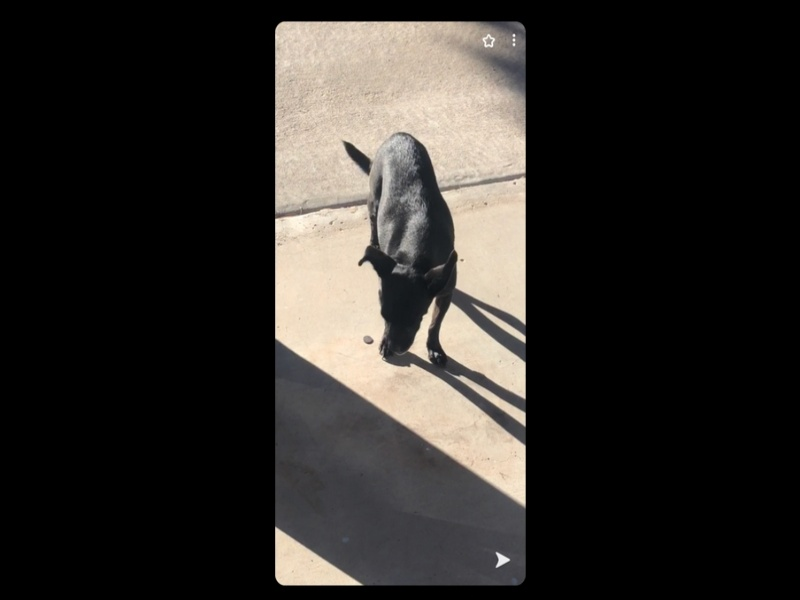dog: (339, 131, 461, 377)
